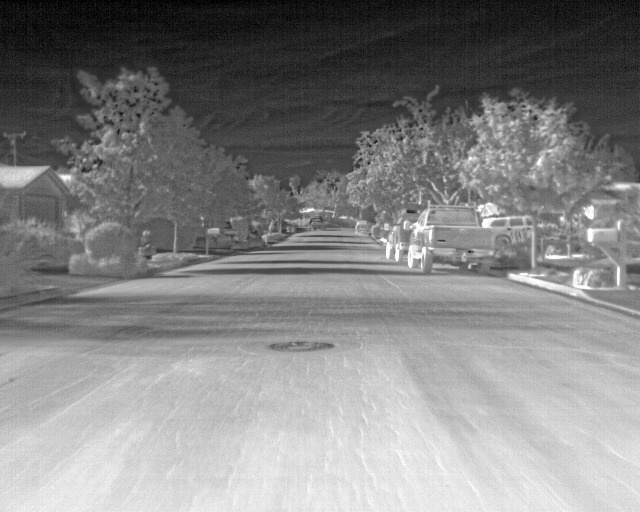vehicle: (409, 206, 493, 275)
